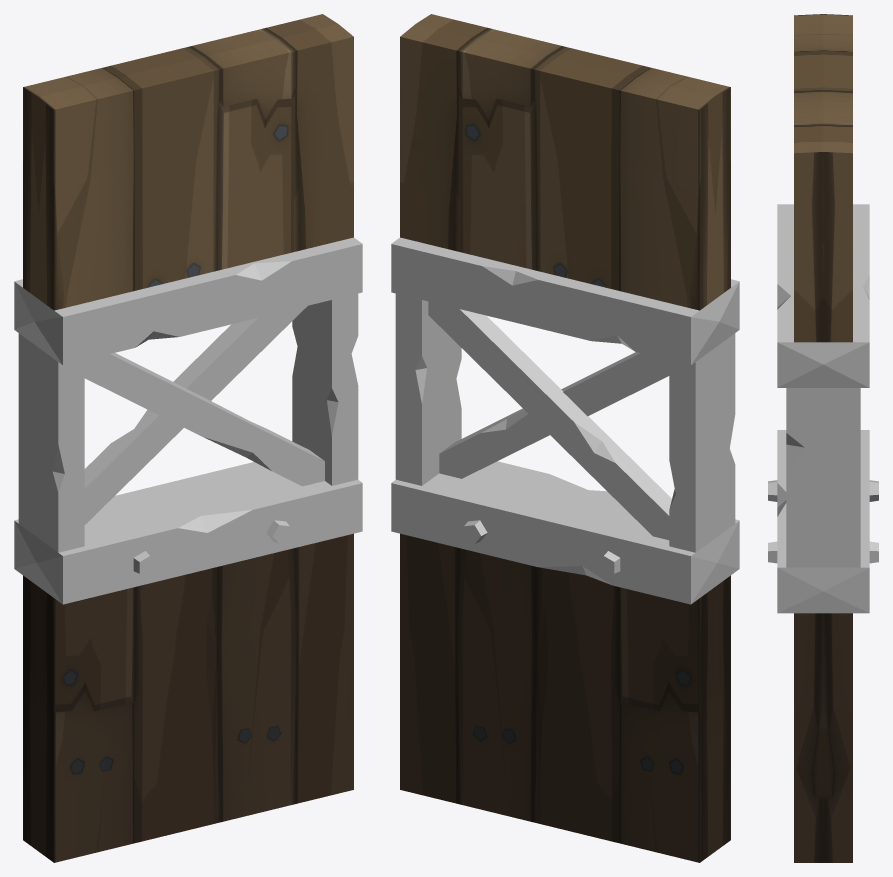
File: SM_Bld_Wall_Window_Half_01.fbx
3 views of the same model, side by side, from view 1: azimuth 30°, elevation 25°; view 2: azimuth 150°, elevation 25°; view 3: azimuth 270°, elevation 25° (orthographic). The views are drawn at different scales.
Parts seen in each view (by area): view 1: SM_Bld_Wall_Window_Half_01; view 2: SM_Bld_Wall_Window_Half_01; view 3: SM_Bld_Wall_Window_Half_01.
Part boxes in pixels (x1=…): SM_Bld_Wall_Window_Half_01: x1=14, y1=14, x2=362, y2=862; SM_Bld_Wall_Window_Half_01: x1=391, y1=14, x2=739, y2=862; SM_Bld_Wall_Window_Half_01: x1=768, y1=14, x2=878, y2=862.
Bounding box in the file's own units: 128 × 301 × 42.5.
